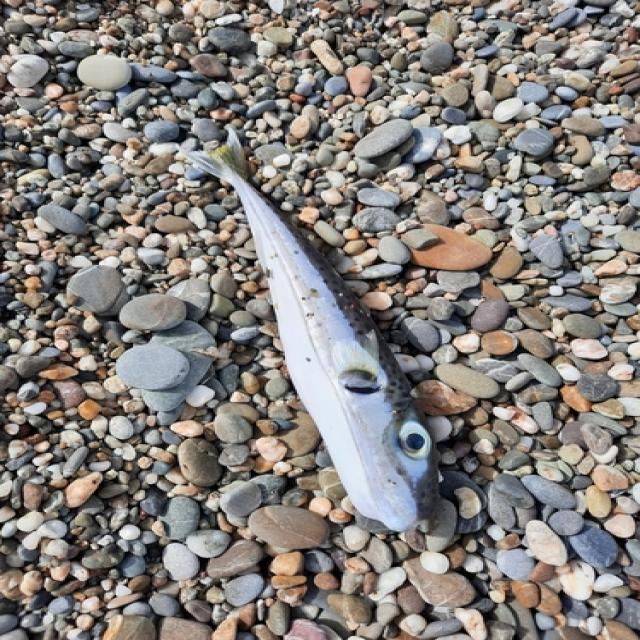Balik: (183, 130, 438, 531)
